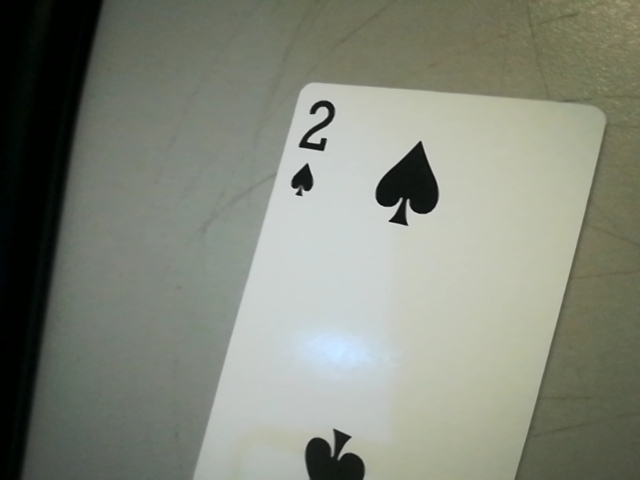ht 2: (278, 88, 350, 206)
